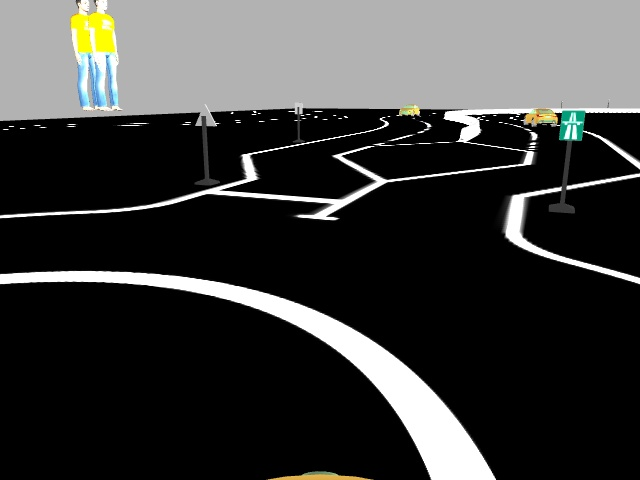HighwayEntrance: (558, 109, 585, 142)
